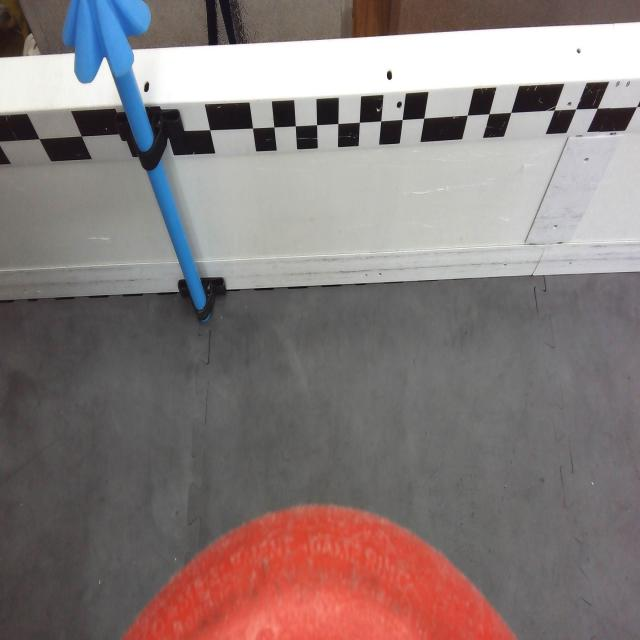zblue-Stake-Head: (63, 0, 149, 85)
